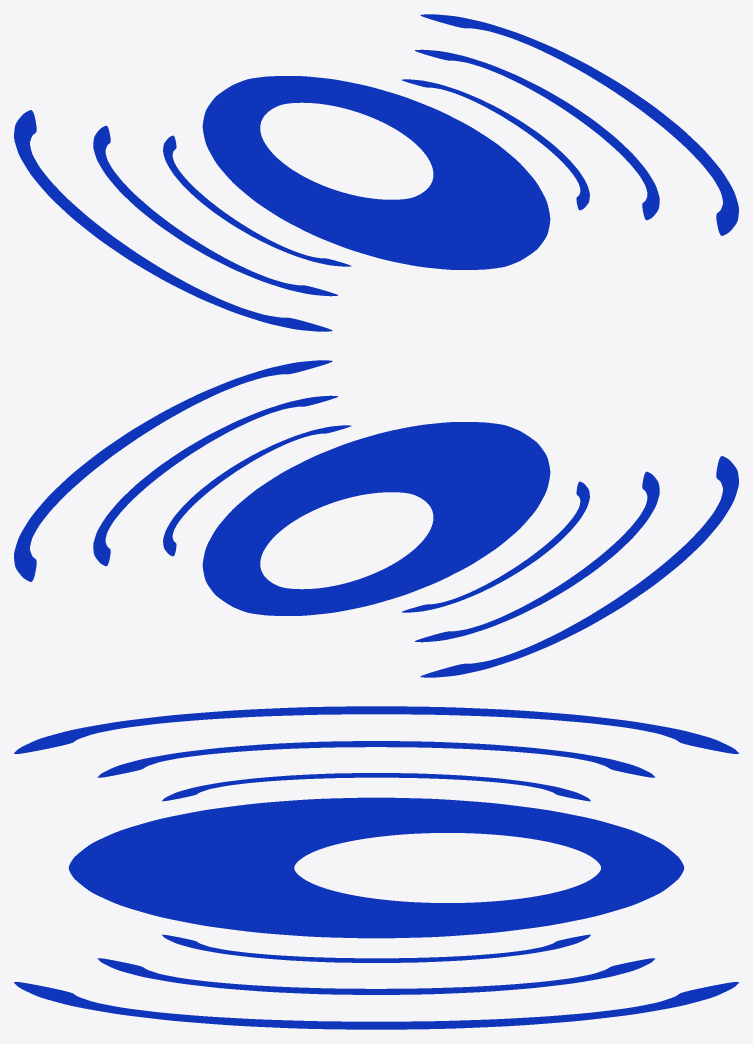
The model's file is beacon.fbx.
The picture shows the model from 3 angles, top to bottom: view 1: azimuth 30°, elevation 25°; view 2: azimuth 150°, elevation 25°; view 3: azimuth 270°, elevation 25°; orthographic projection. The views are drawn at different scales.
Visible parts, largest first — view 1: maincircle, outsiders; view 2: maincircle, outsiders; view 3: maincircle, outsiders.
Boxes of the visible parts, x1,y1,x2,y2 form: maincircle: (202,76,550,269); outsiders: (14,14,738,331); maincircle: (202,422,550,615); outsiders: (14,360,738,677); maincircle: (68,797,684,938); outsiders: (14,706,738,1029).
Size of the model in its own units: 2.48 by 3.83e-07 by 2.35.
